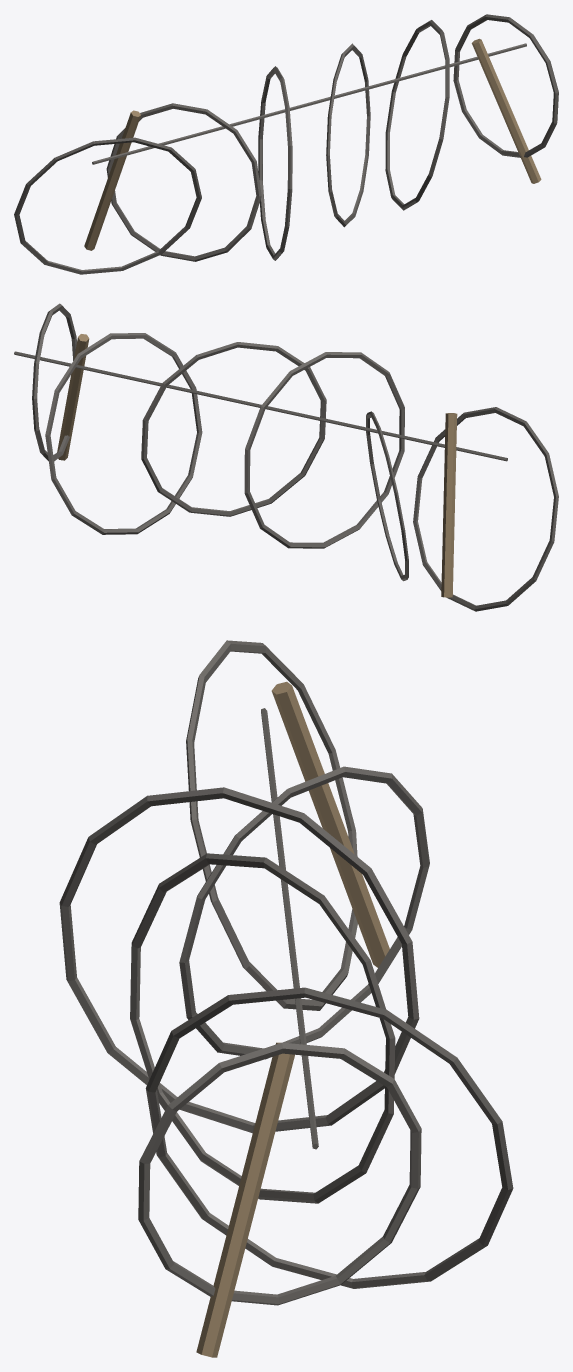
File: barbwire_tangle.glb
3 renders of one model, top to bottom at view 1: azimuth 30°, elevation 25°; view 2: azimuth 150°, elevation 25°; view 3: azimuth 270°, elevation 25°, orthographic. The views are drawn at different scales.
Visible parts, largest first — view 1: barbwire_tangle; view 2: barbwire_tangle; view 3: barbwire_tangle.
Boxes of the visible parts, <box> form: barbwire_tangle: <box>14,14,558,274</box>; barbwire_tangle: <box>14,303,558,611</box>; barbwire_tangle: <box>59,640,513,1357</box>.
Size of the model in its own units: 2.73 by 0.9294 by 1.06.
